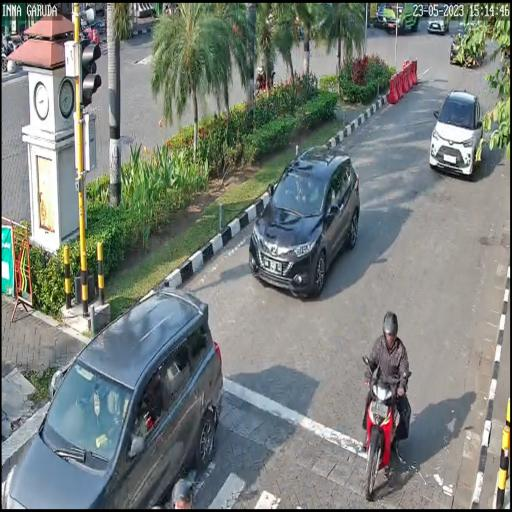mobil: (0, 281, 227, 512), (249, 144, 366, 302), (428, 88, 486, 181)
motor: (360, 350, 415, 498)
